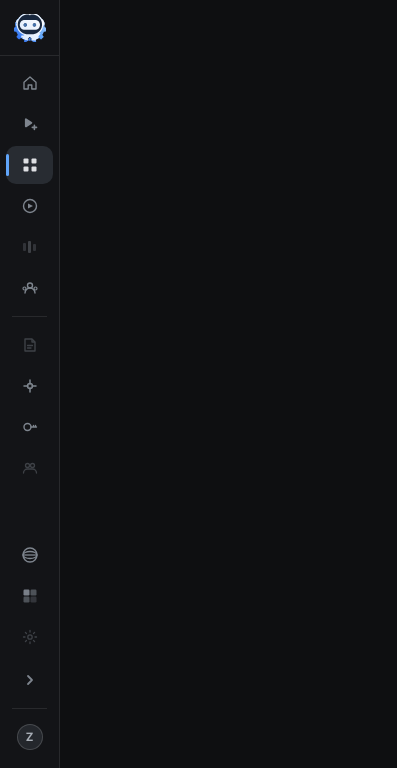
Test case: Sidebar › opens Appearance as a compact, anchored flyout
Click the button named "Choose theme, currently Dark".
click(30, 596)  # box [6,577,53,615]
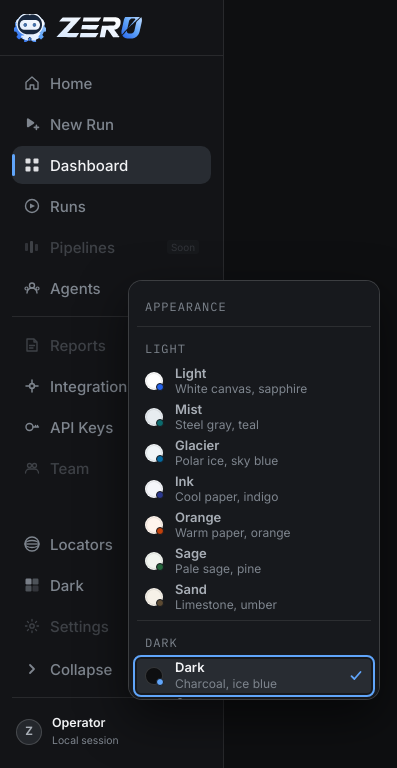
expect the button with aria-label "Choose theme, currently Dark" is expanded: met, box [12,566,211,604]
